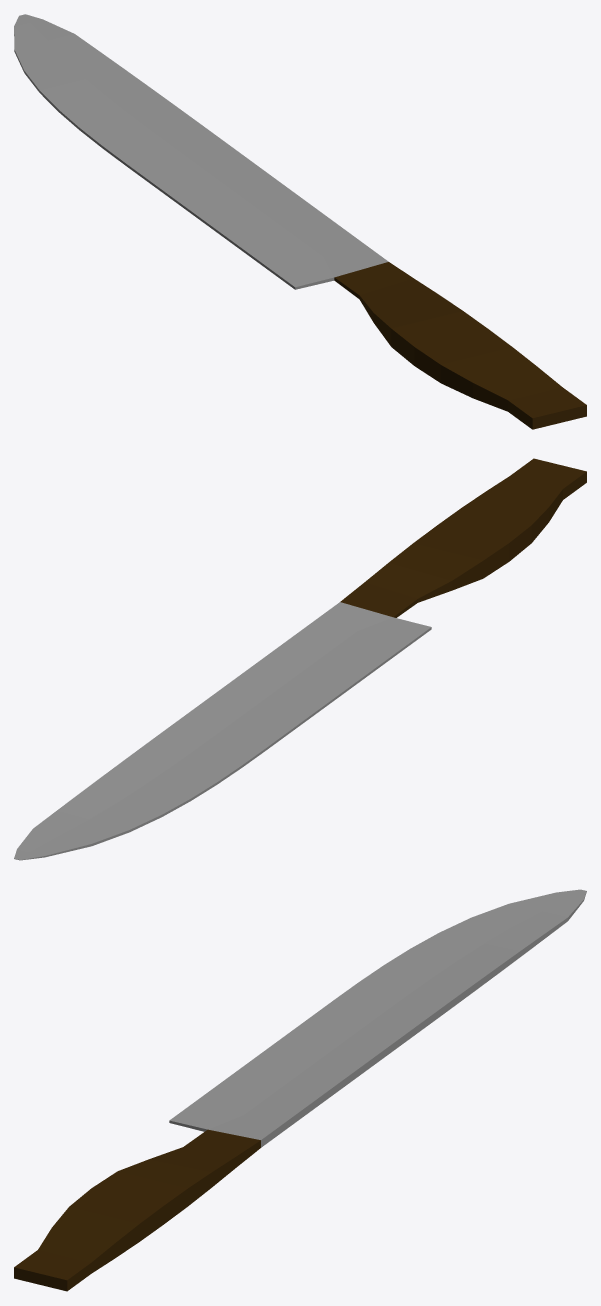
The model's file is Knife.fbx.
The picture shows the model from 3 angles, top to bottom: view 1: azimuth 30°, elevation 25°; view 2: azimuth 150°, elevation 25°; view 3: azimuth 330°, elevation 25°; orthographic projection. The views are drawn at different scales.
Parts seen in each view (by area): view 1: Cube.027; view 2: Cube.027; view 3: Cube.027.
Boxes of the visible parts, x1,y1,x2,y2 form: Cube.027: (14,14,586,429); Cube.027: (14,458,586,860); Cube.027: (14,889,586,1291).
Size of the model in its own units: 13.67 by 2.68 by 138.
